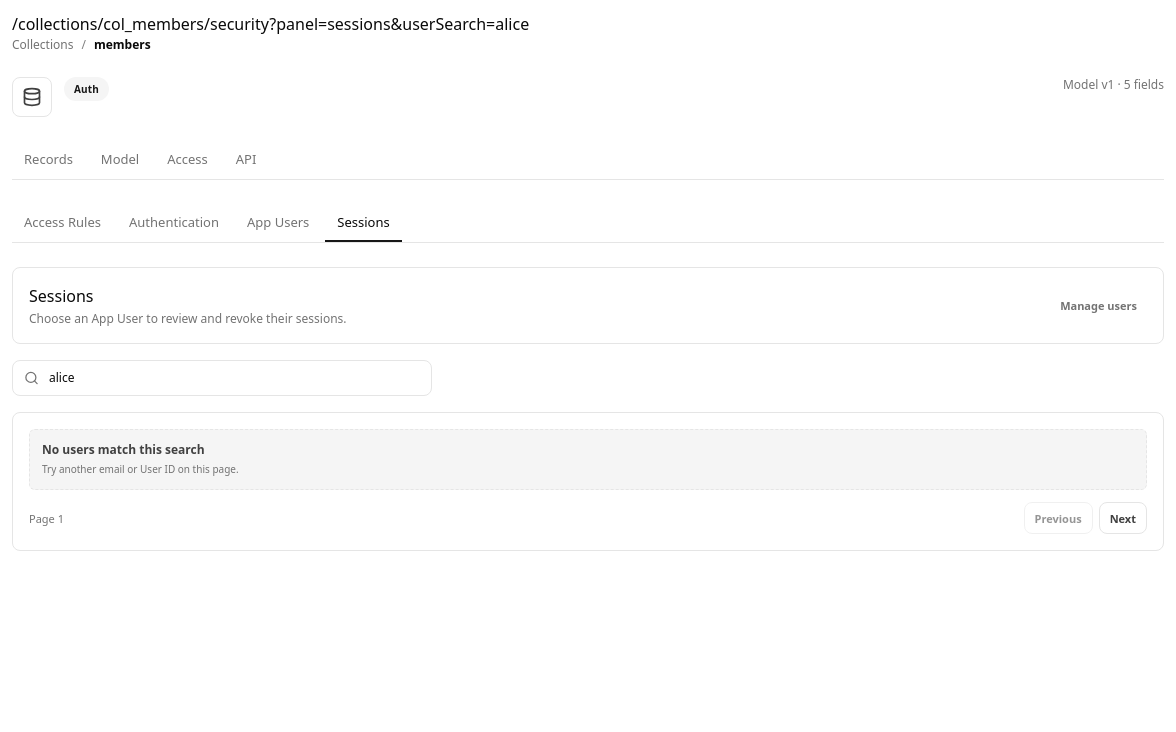
Test: Collection Records and Security pages › paginates the Sessions user picker while keeping search and cursor in the URL
Check: the heading "No users match this search" is shown, box [42,441,205,458]
Click the button "Next": (1123,518) [1099,502,1147,534]
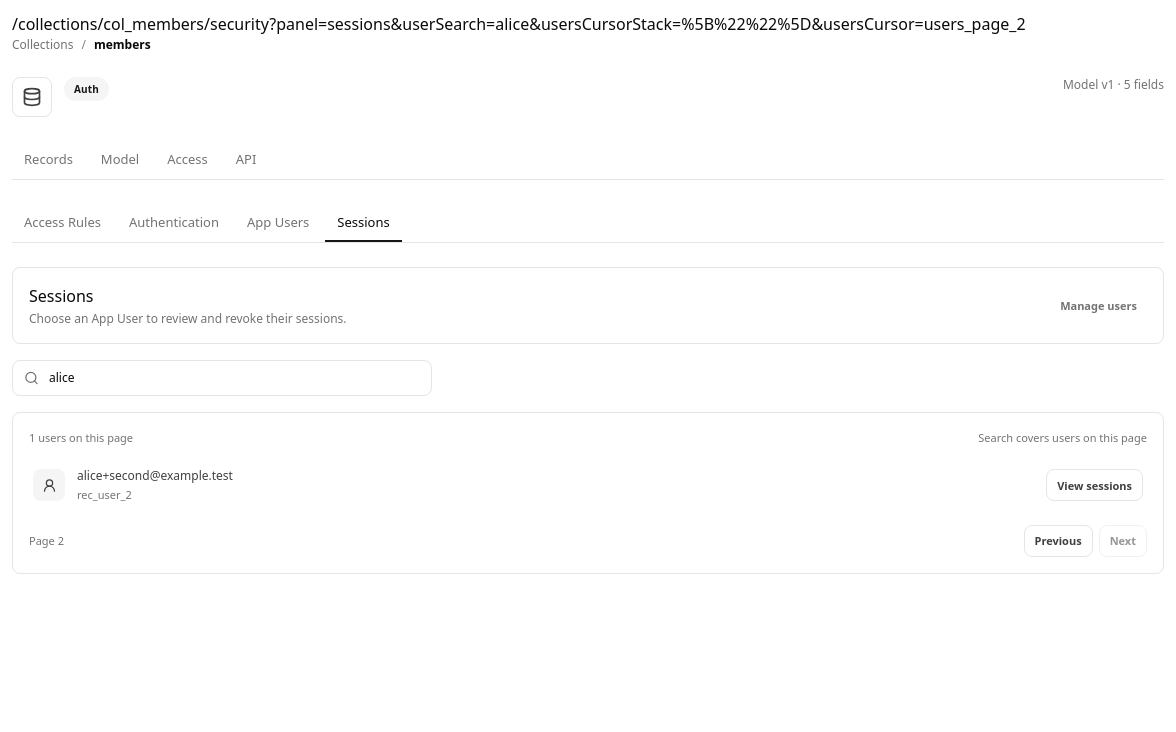
Check: the text "alice+second@example.test" is shown, box [77,467,233,484]
Check: the text with test id "current-location" shows "usersCursor=users_page_2", box [269,13,1026,35]
Check: the text with test id "current-location" shows "usersCursorStack=%5B%22%22%5D", box [269,13,1026,35]
Click the button "Previous": (1058,541) [1024,525,1093,557]
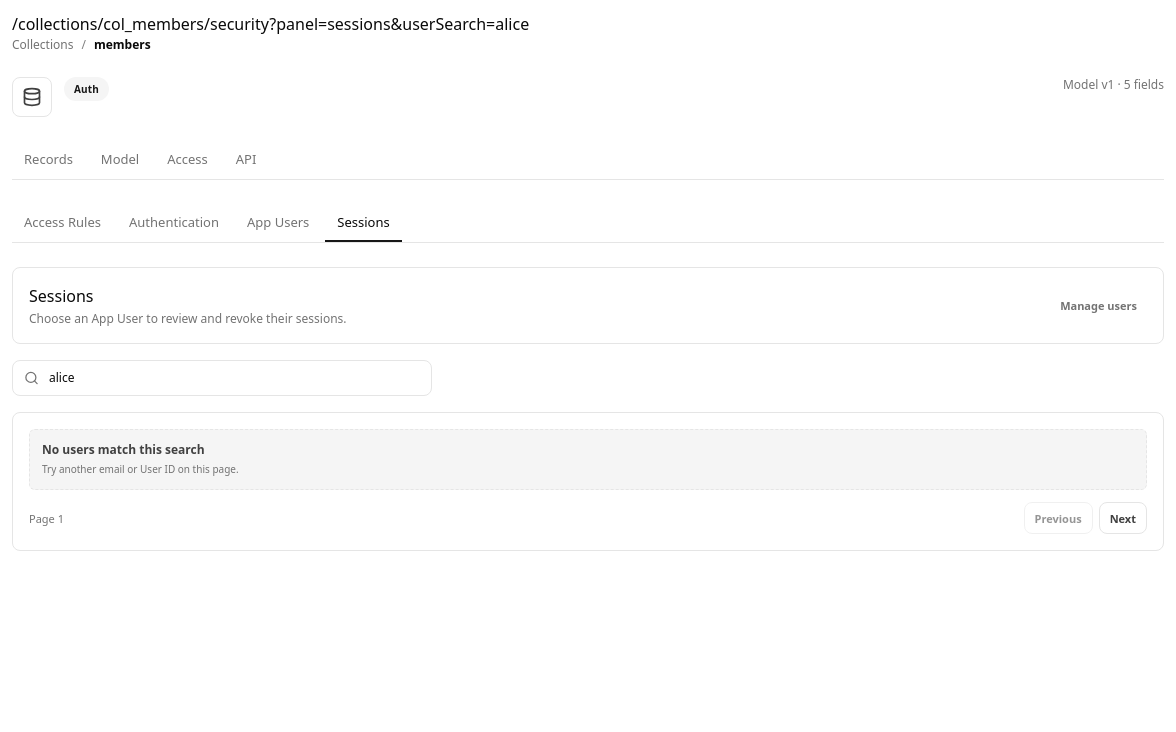
Check: the heading "No users match this search" is shown, box [42,441,205,458]
Check: the text with test id "current-location" no longer shows "usersCursor=users_page_2"
Check: the text with test id "current-location" no longer shows "usersCursorStack="
